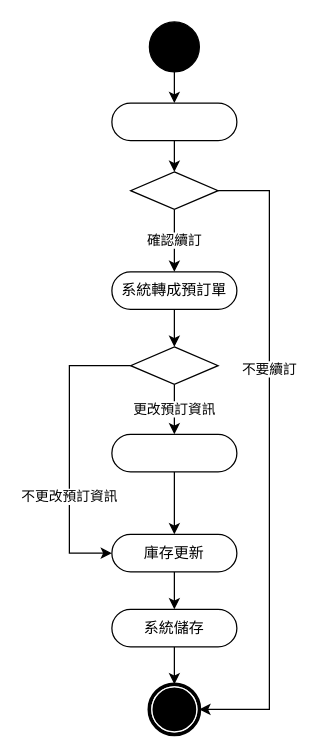
Image size: 319x756. Some labels were removed from this diagram. Each missing label, with the centre of its shape:
"輸入預訂資訊" goes at (x=174, y=452).
"點選續訂資訊" goes at (x=174, y=121).
